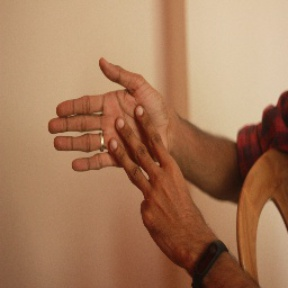M: (42, 53, 182, 192)
